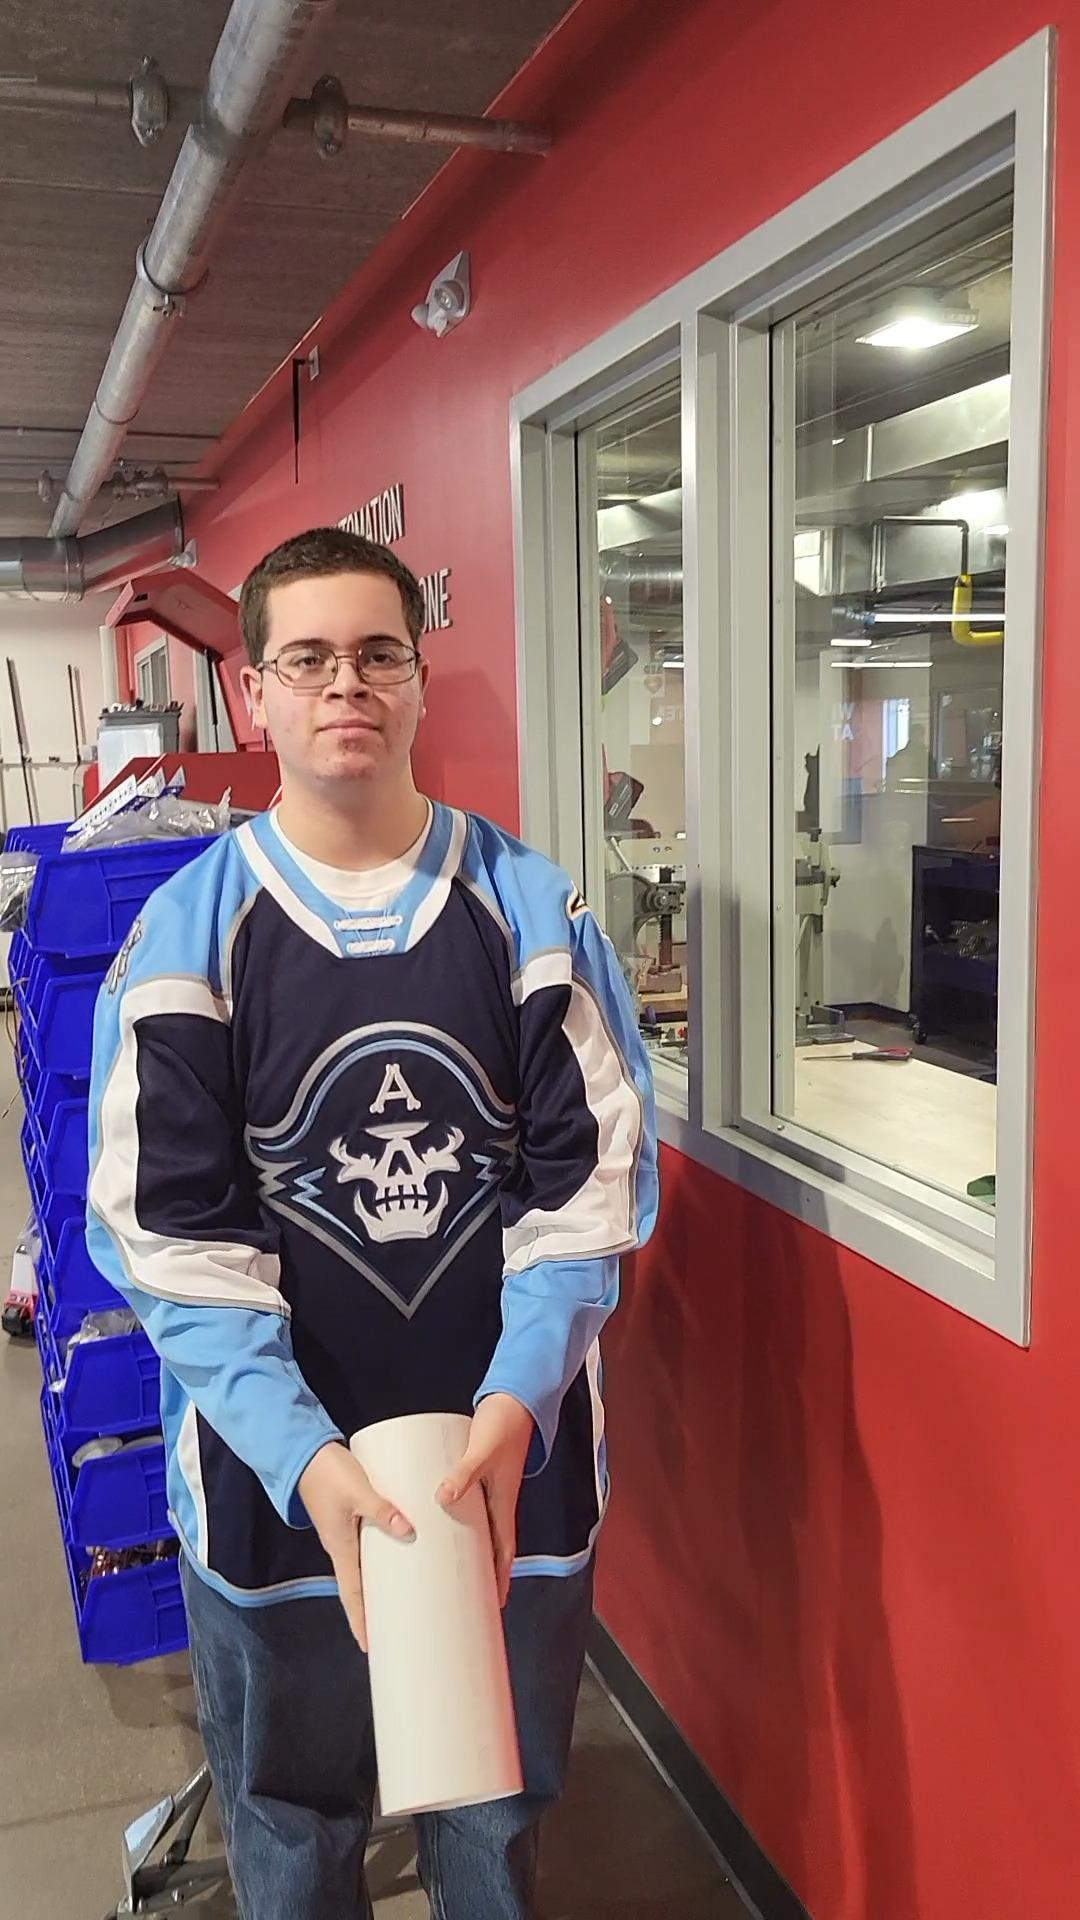coral: (347, 1408, 537, 1830)
